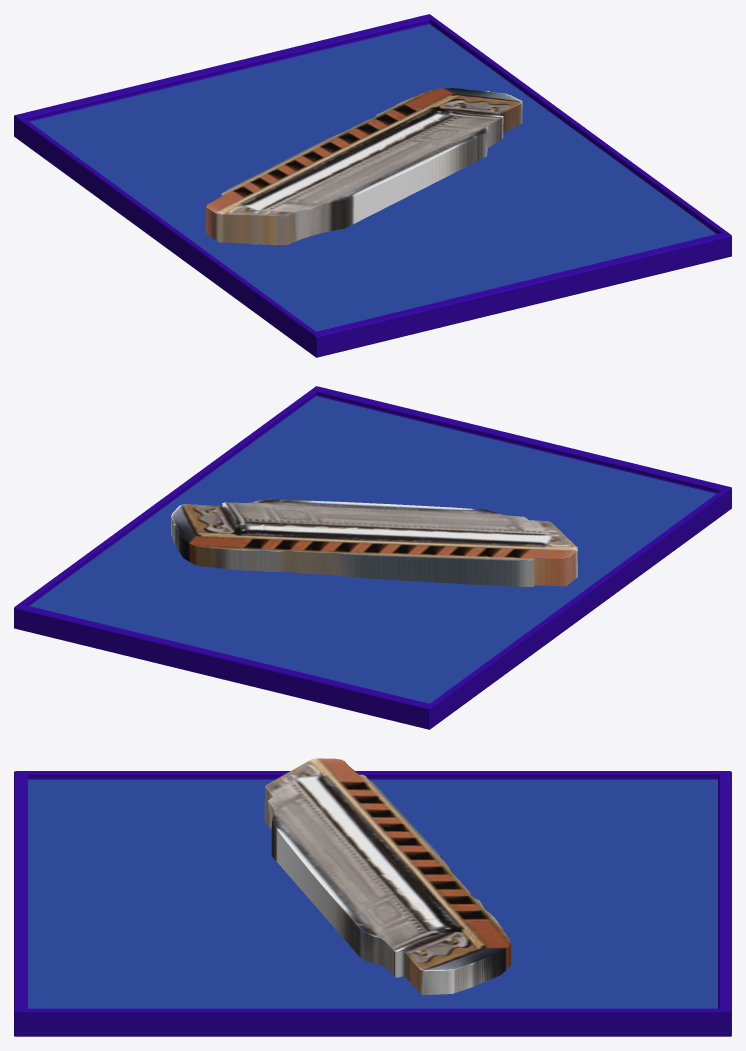
File: Harmonica.fbx
3 renders of one model, top to bottom at view 1: azimuth 30°, elevation 25°; view 2: azimuth 150°, elevation 25°; view 3: azimuth 270°, elevation 25°, orthographic. The views are drawn at different scales.
Parts seen in each view (by area): view 1: pCube1, Curve; view 2: pCube1, Curve; view 3: pCube1, Curve.
Part boxes in pixels (x1=…): pCube1: x1=14, y1=14, x2=731, y2=357; Curve: x1=205, y1=88, x2=522, y2=244; pCube1: x1=14, y1=386, x2=731, y2=729; Curve: x1=171, y1=498, x2=577, y2=586; pCube1: x1=14, y1=771, x2=731, y2=1036; Curve: x1=264, y1=758, x2=511, y2=995.
Bounding box in the file's own units: 44.59 × 4.7 × 56.23.
